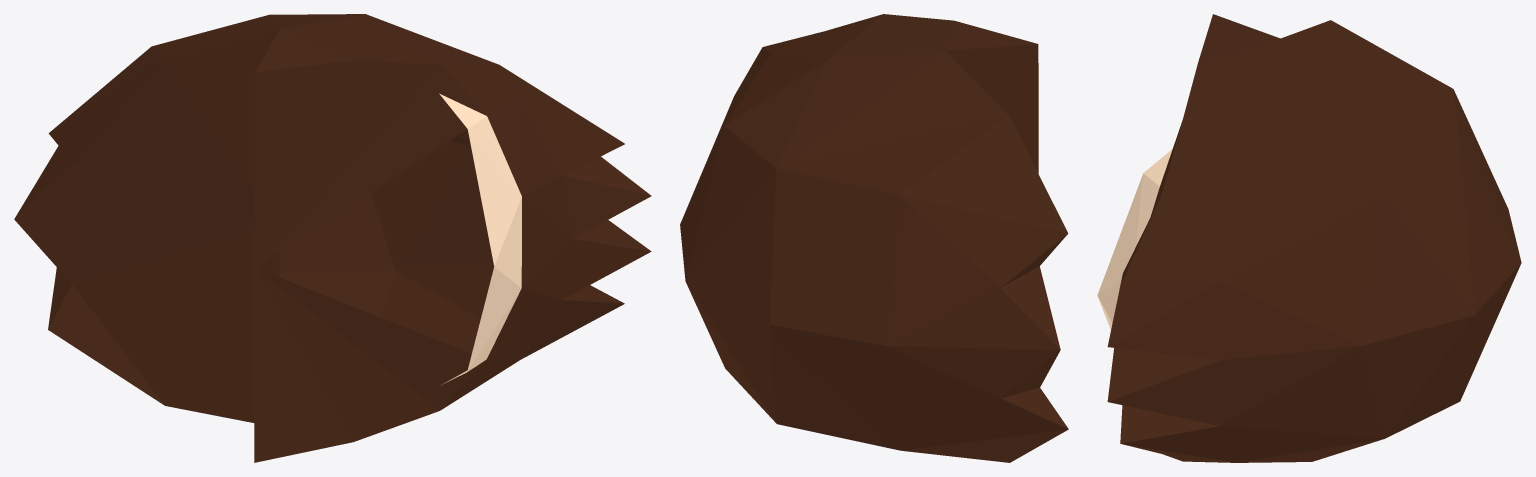
File: hair26.glb
3 views of the same model, side by side, from view 1: azimuth 30°, elevation 25°; view 2: azimuth 150°, elevation 25°; view 3: azimuth 270°, elevation 25° (orthographic).
Parts seen in each view (by area): view 1: tomodachi-2026-03-17-09-08-02-486, tomodachi-2026-03-17-09-08-02-486.008; view 2: tomodachi-2026-03-17-09-08-02-486; view 3: tomodachi-2026-03-17-09-08-02-486, tomodachi-2026-03-17-09-08-02-486.008.
Boxes of the visible parts, x1,y1,x2,y2 form: tomodachi-2026-03-17-09-08-02-486: [14, 14, 651, 462]; tomodachi-2026-03-17-09-08-02-486.008: [439, 93, 521, 384]; tomodachi-2026-03-17-09-08-02-486: [680, 14, 1068, 462]; tomodachi-2026-03-17-09-08-02-486: [1107, 14, 1521, 462]; tomodachi-2026-03-17-09-08-02-486.008: [1097, 149, 1172, 329].
Bounding box in the file's own units: 1.43 × 1.15 × 1.12.
Materials: 2 (2 with a texture image).
